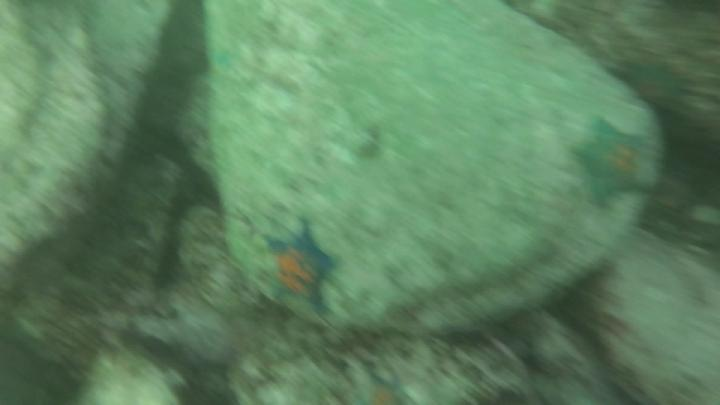starfish: (568, 113, 657, 214), (261, 220, 338, 320), (355, 374, 411, 405)
